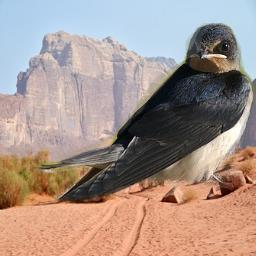Swallow: (32, 23, 255, 201)
